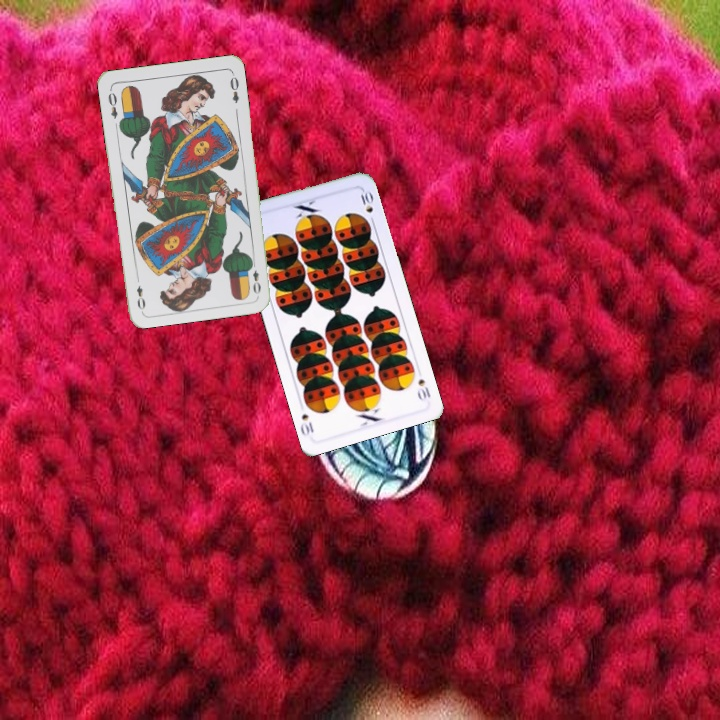EO: (246, 257, 263, 297), (104, 85, 120, 121)
S10: (413, 375, 433, 403)
